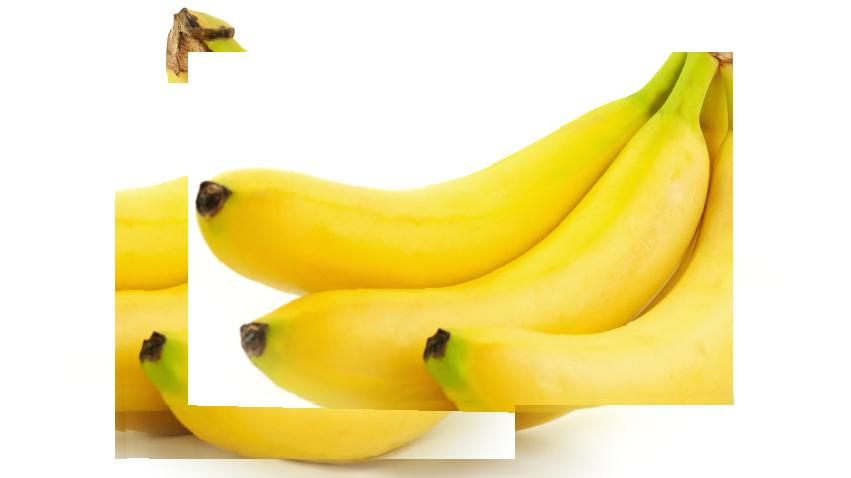Banana Fresh: (189, 52, 735, 405), (115, 84, 515, 460)
